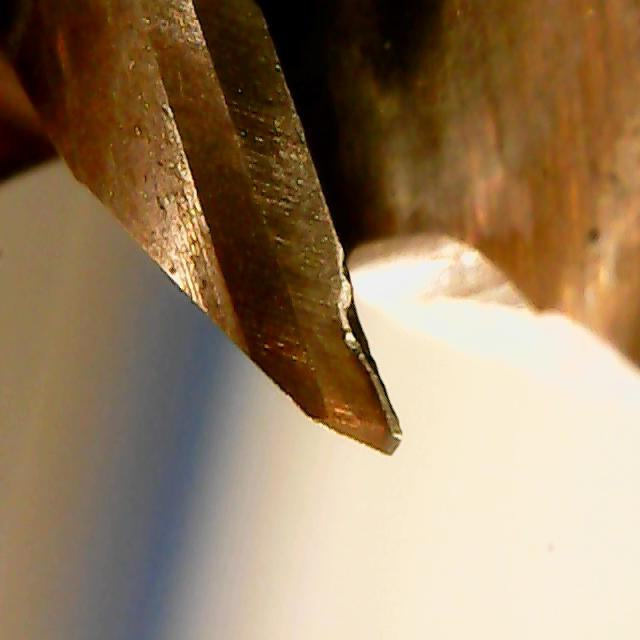Tool-wear-class-1: (252, 155, 412, 480)
